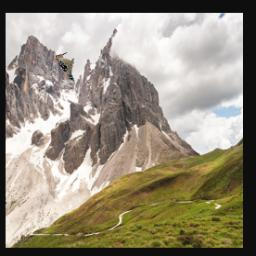Woodpecker: (56, 51, 75, 81)
